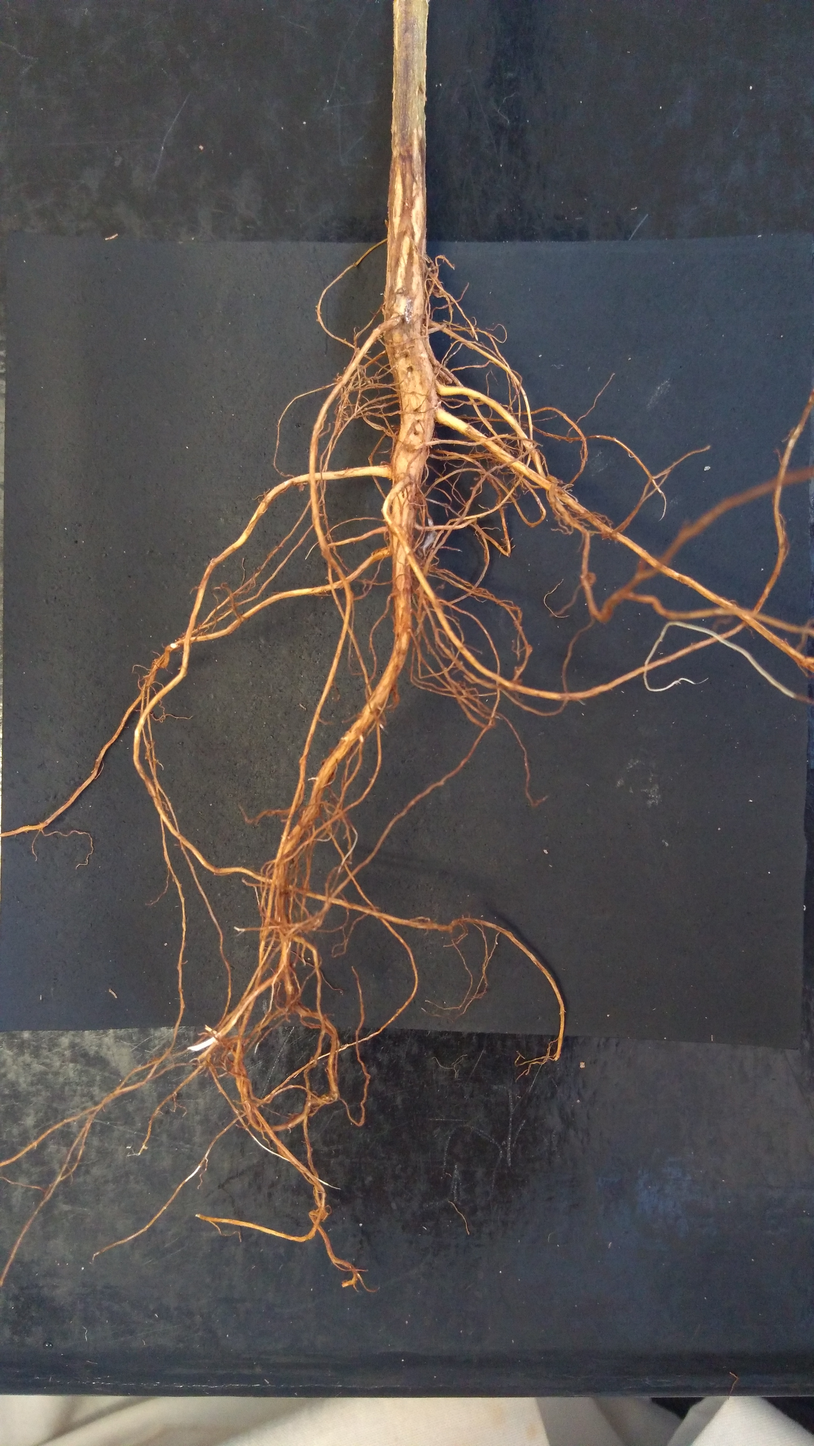nodule: (432, 365, 454, 385), (320, 1090, 339, 1104), (580, 572, 596, 587), (545, 475, 558, 486), (295, 481, 308, 492)
